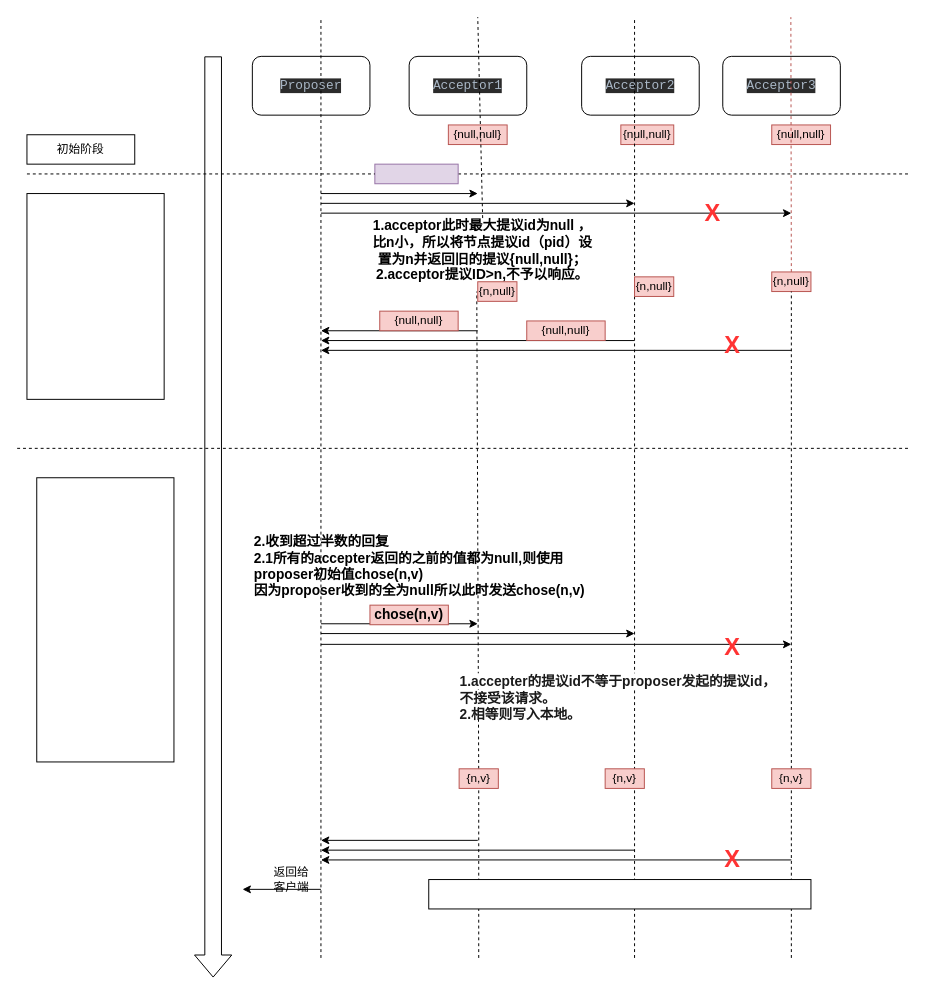
Some shapes in this 927 by 995 pixel diagram are drawn without their labels. The centre of each missing label's shape, as x and y in pixels:
"Prepare （n）" belongs at (x=416, y=173).
"Proposer 广播Prepare（n）请求" belongs at (x=95, y=296).
"并将接收的值通知leaner" belongs at (x=619, y=894).
"提交协议" belongs at (x=105, y=619).
